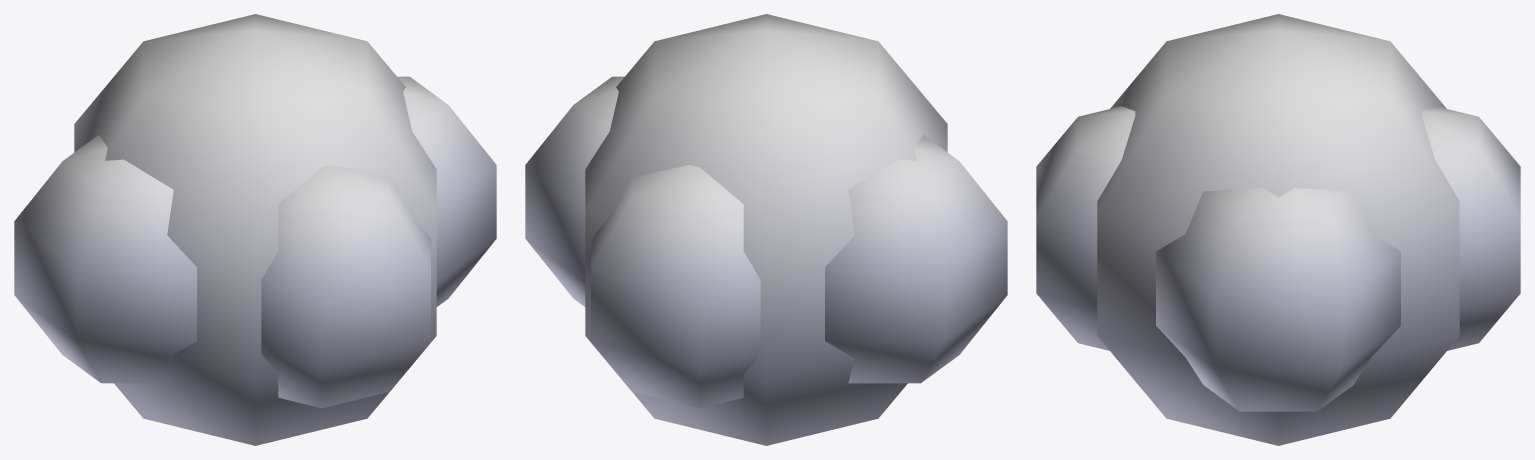
The model's file is nuvem.glb.
The picture shows the model from 3 angles, left to right: view 1: azimuth 30°, elevation 25°; view 2: azimuth 150°, elevation 25°; view 3: azimuth 270°, elevation 25°; orthographic projection.
Visible parts, largest first — view 1: modelo; view 2: modelo; view 3: modelo.
Part boxes in pixels (box(x1,y1,x2,y2)): modelo: box(14, 14, 496, 445); modelo: box(525, 14, 1007, 445); modelo: box(1036, 14, 1520, 445).
Size of the model in its own units: 2.8 by 2.54 by 2.8.
